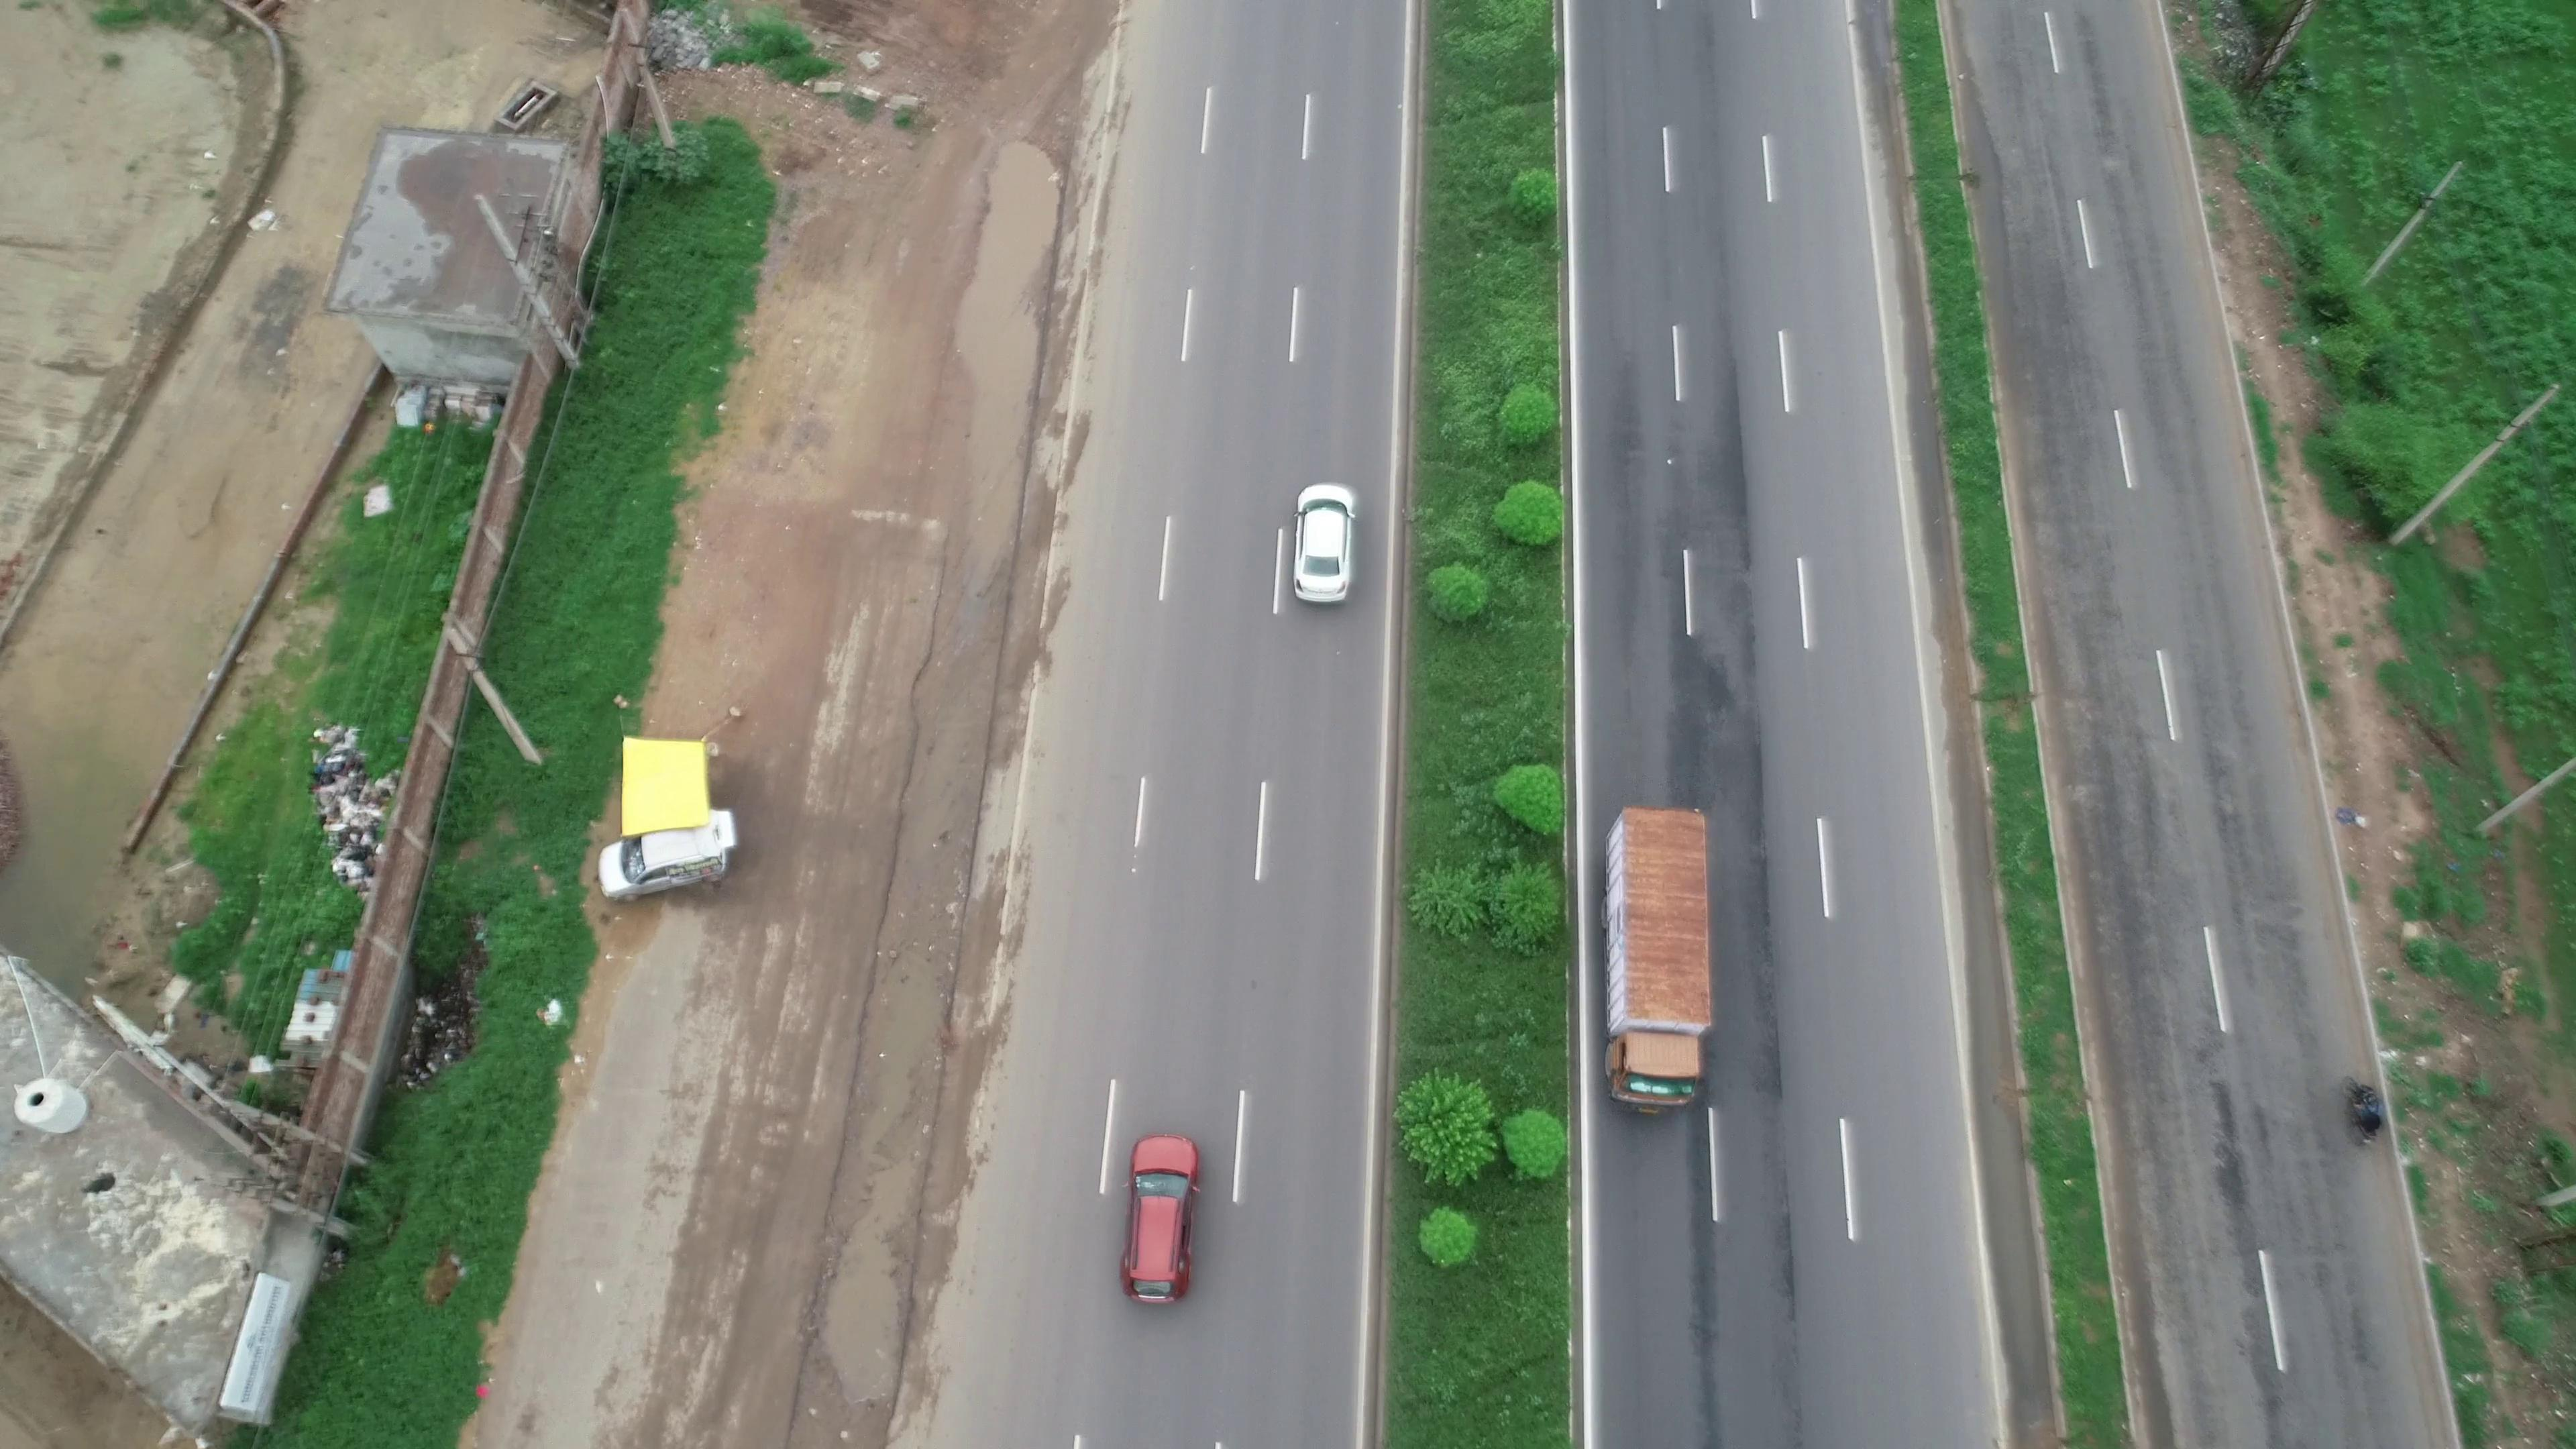Ravelling: (1672, 405, 1767, 782)
